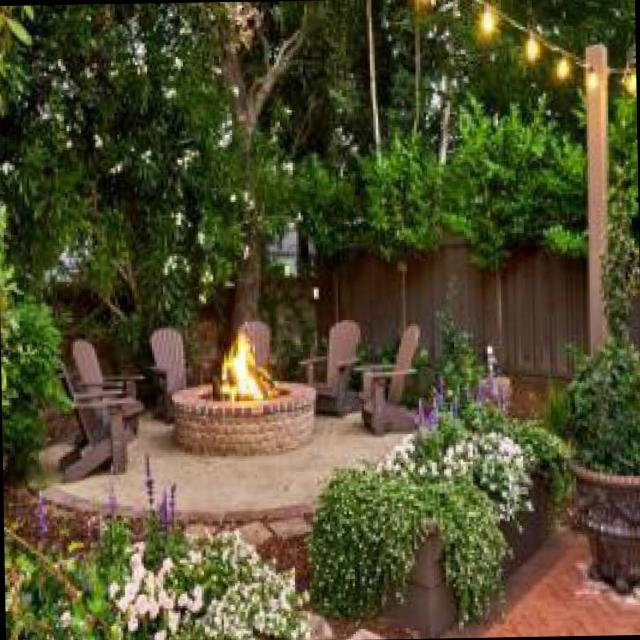fire: (209, 336, 277, 404)
